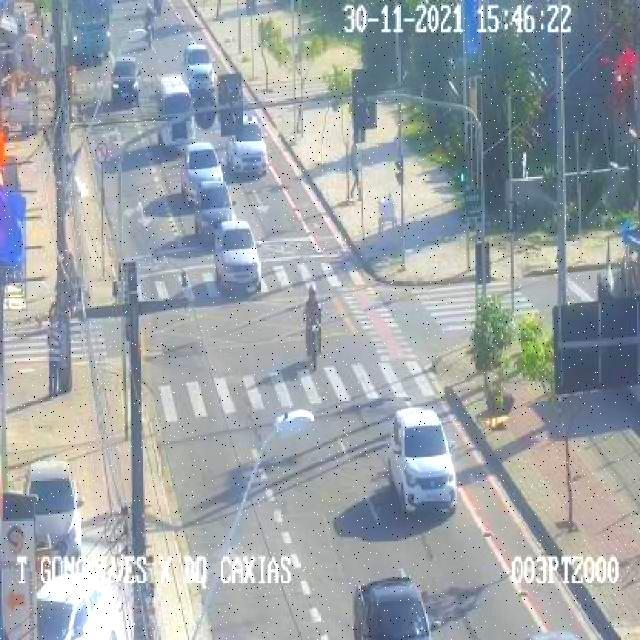Bus: (68, 0, 111, 60)
Car: (394, 409, 457, 516), (21, 569, 109, 640), (24, 462, 78, 558), (356, 575, 424, 640), (216, 222, 260, 296), (158, 76, 195, 144), (184, 142, 217, 203), (197, 180, 230, 240), (229, 124, 266, 176), (186, 45, 212, 97), (112, 58, 141, 104)
Cycle: (298, 287, 335, 367), (141, 0, 155, 48)
